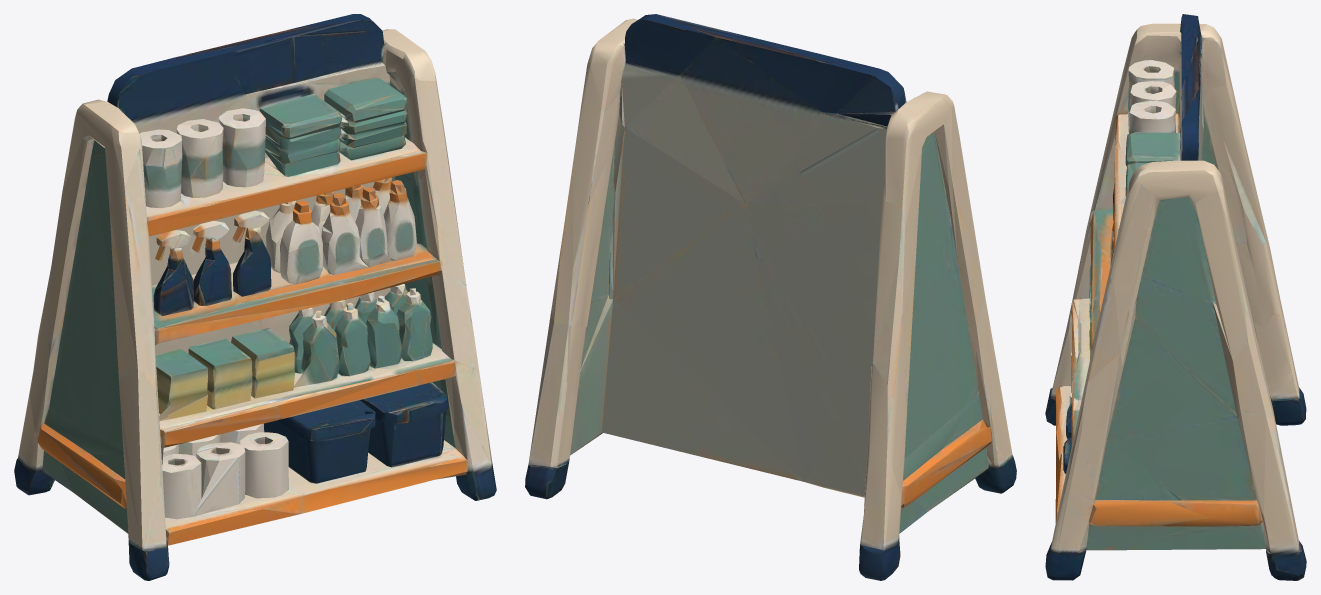
File: goodsGondola.glb
The picture shows the model from 3 angles, left to right: view 1: azimuth 30°, elevation 25°; view 2: azimuth 150°, elevation 25°; view 3: azimuth 270°, elevation 25°; orthographic projection. The views are drawn at different scales.
Parts seen in each view (by area): view 1: Mesh_0; view 2: Mesh_0; view 3: Mesh_0.
Boxes of the visible parts, x1=… form: Mesh_0: x1=14, y1=14, x2=496, y2=580; Mesh_0: x1=525, y1=14, x2=1016, y2=580; Mesh_0: x1=1045, y1=14, x2=1306, y2=580.
Size of the model in its own units: 1.14 by 1.36 by 0.7501.
1 material, 1 textured.
